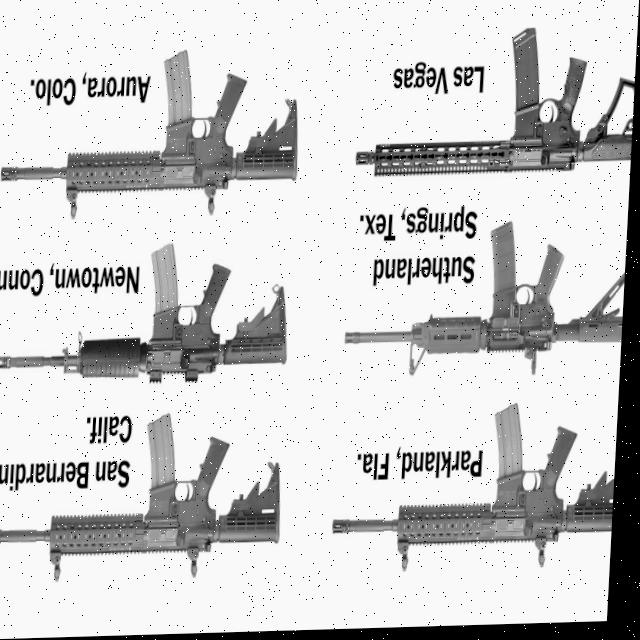firearm: (0, 47, 305, 224), (0, 411, 291, 586), (336, 404, 623, 578), (346, 220, 630, 385), (0, 239, 296, 390), (356, 27, 638, 182)
